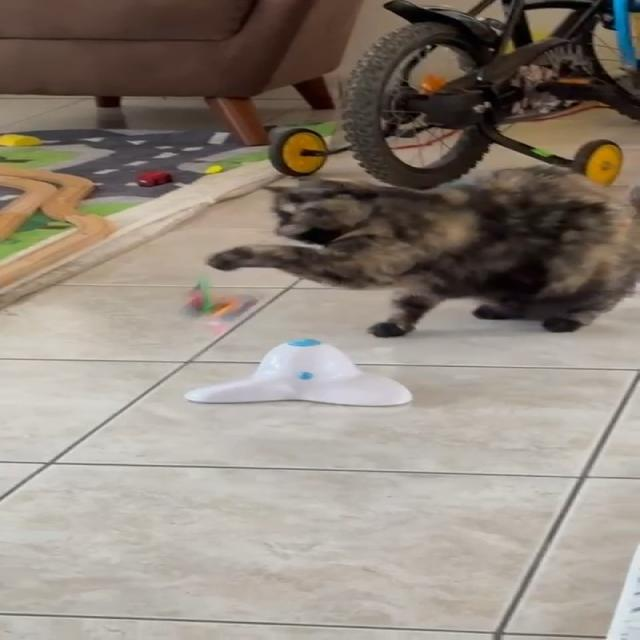authorized: (205, 163, 639, 337)
